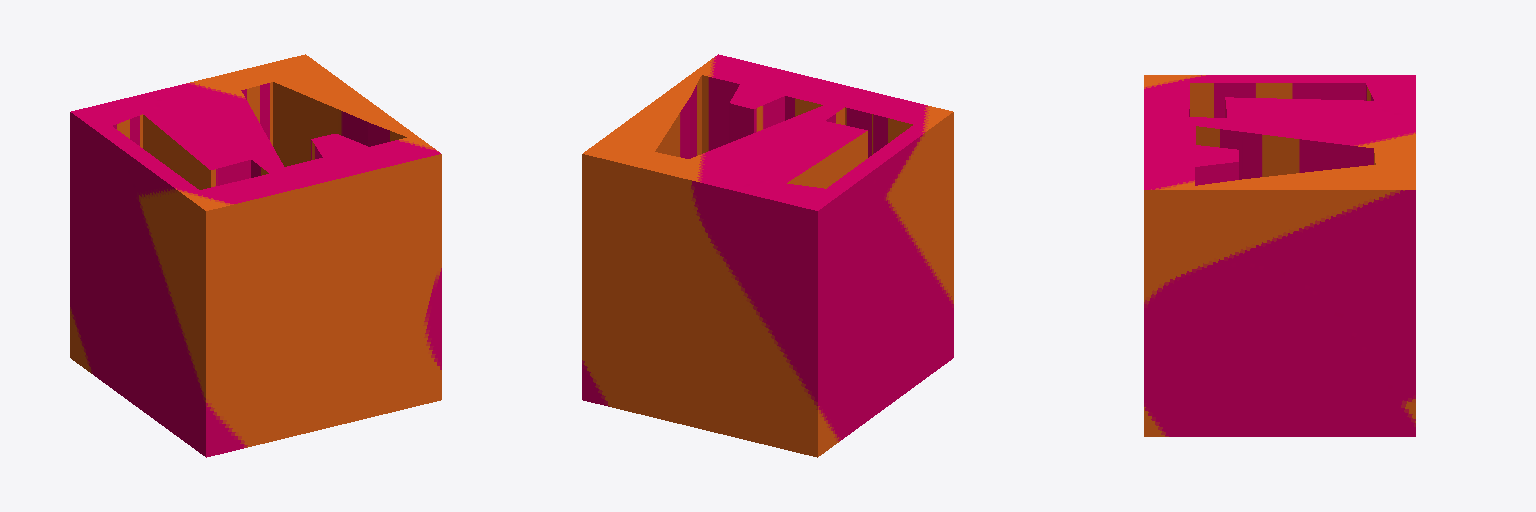
3 renders of one model, left to right at view 1: azimuth 30°, elevation 25°; view 2: azimuth 150°, elevation 25°; view 3: azimuth 270°, elevation 25°, orthographic.
Bounding box in the file's own units: 2.3 × 2.3 × 2.3.
Materials: 1 (1 with a texture image).